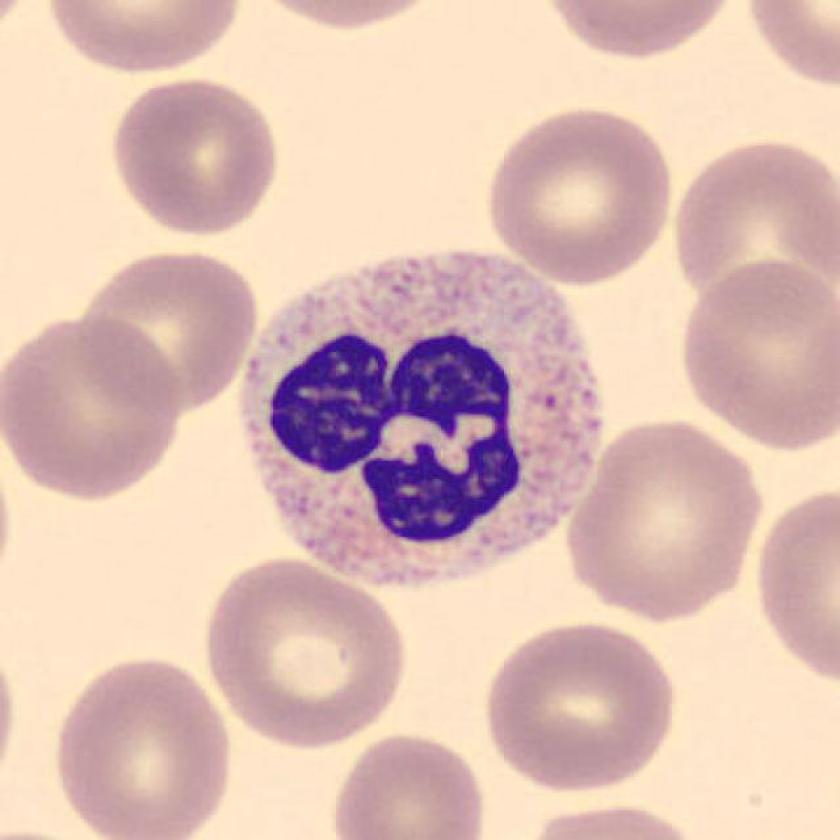neutrophil: (239, 253, 604, 586)
